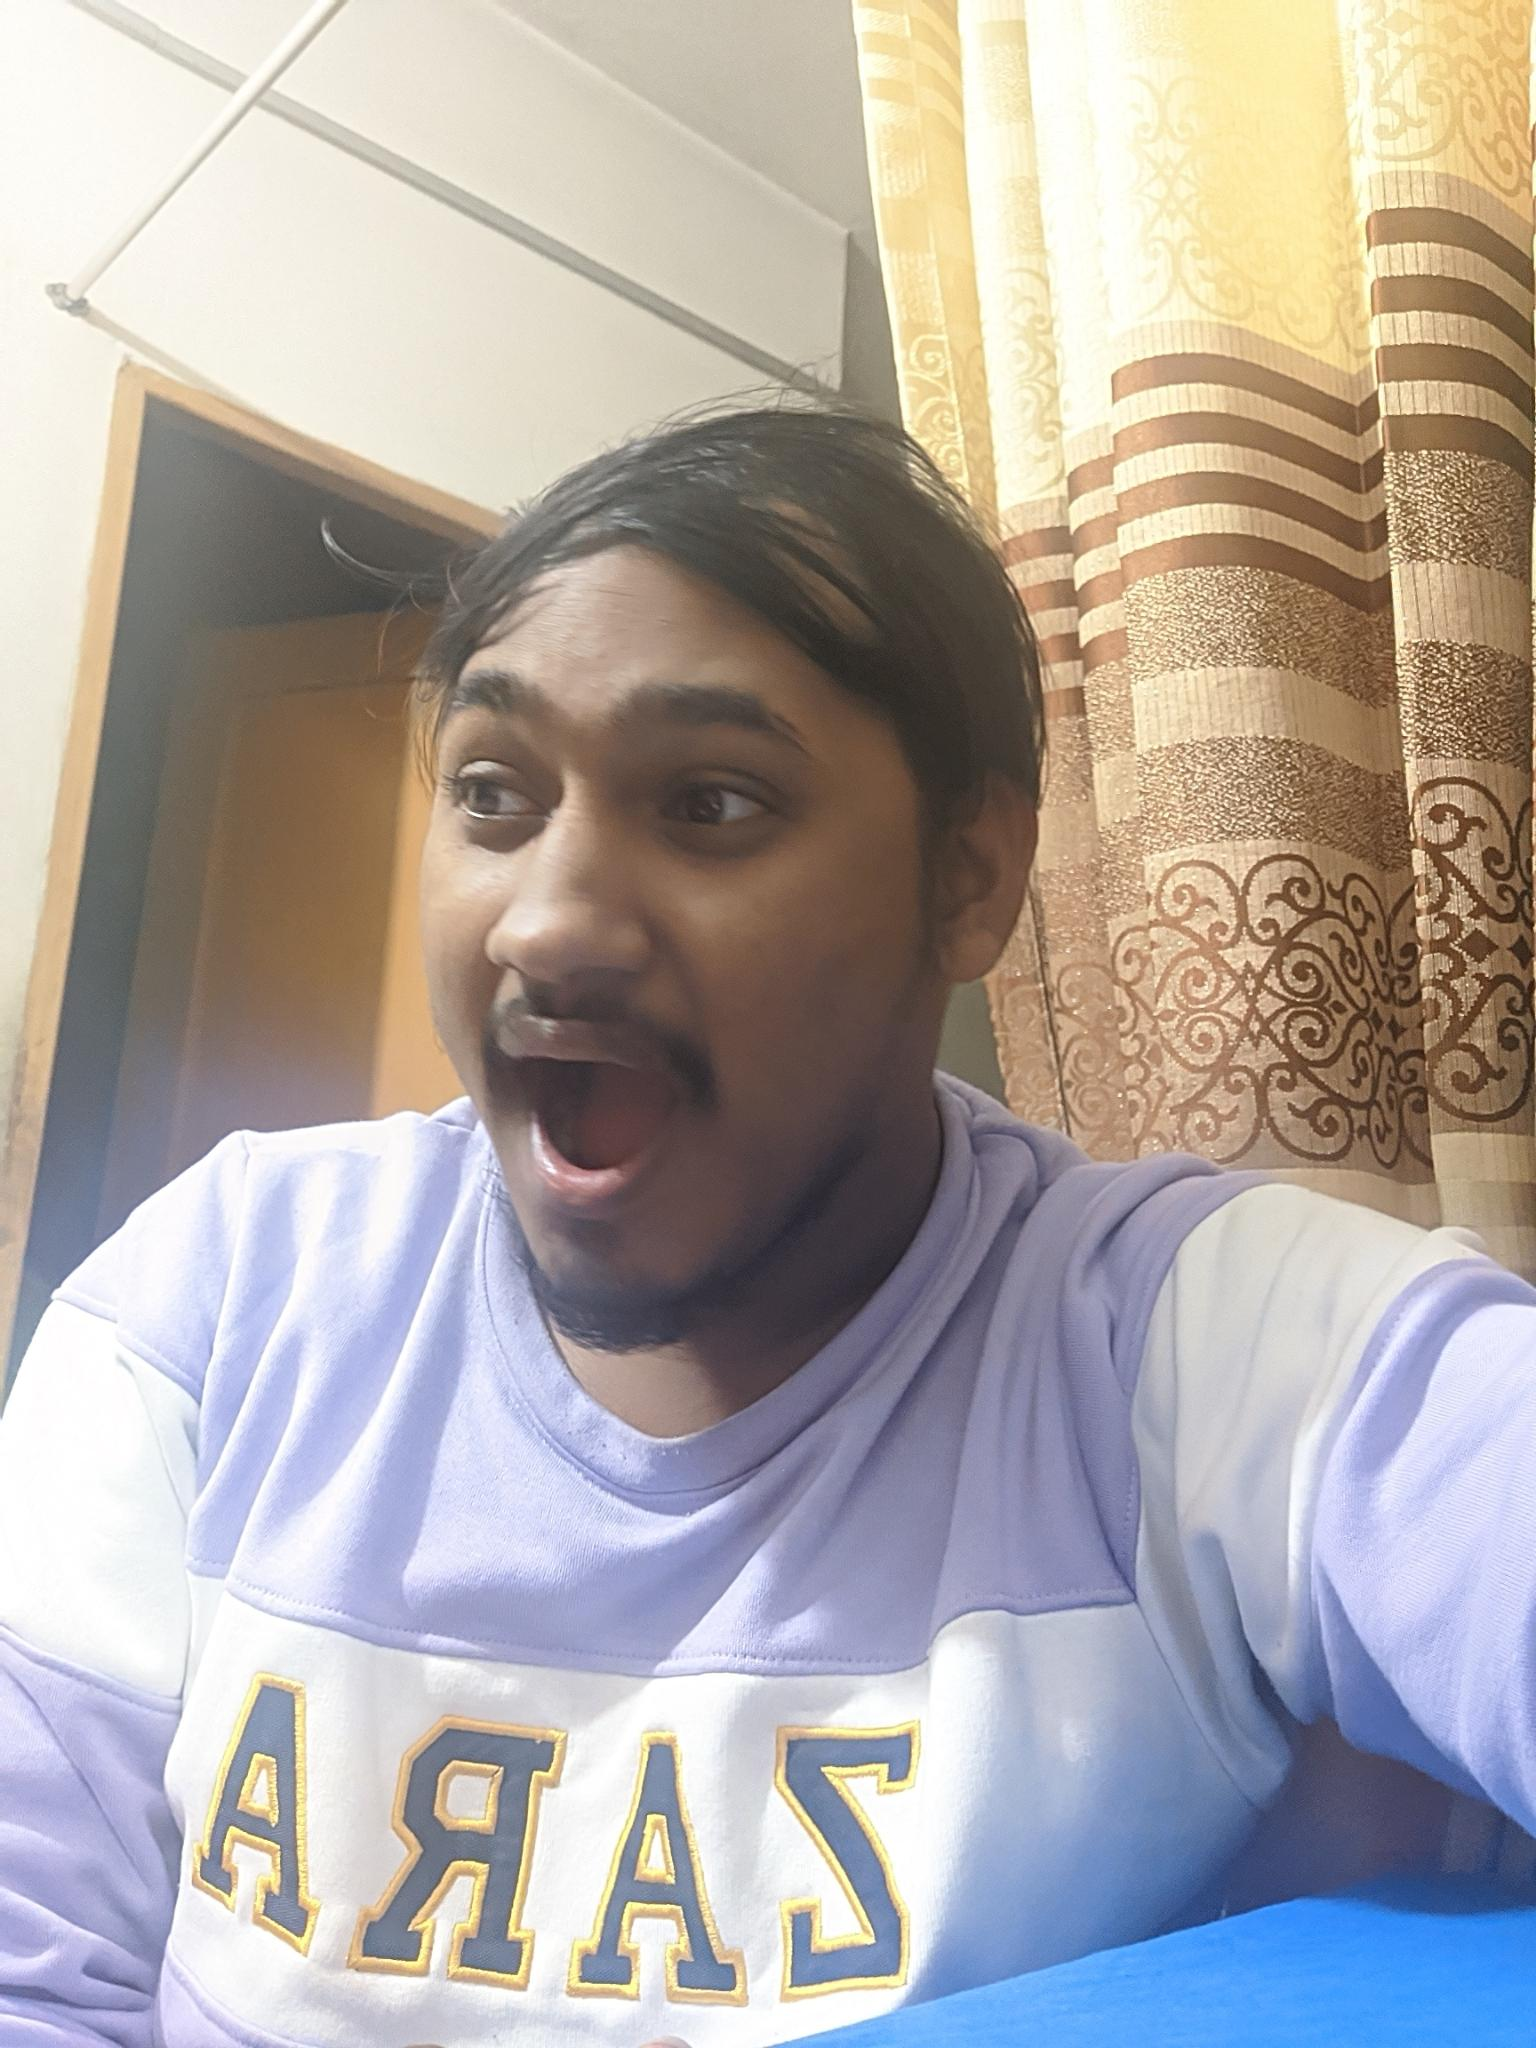Surprise: (369, 614, 931, 1343)
